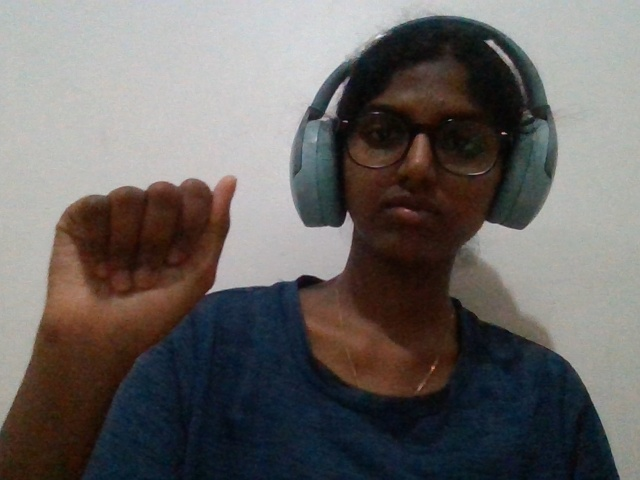A: (1, 165, 248, 400)
